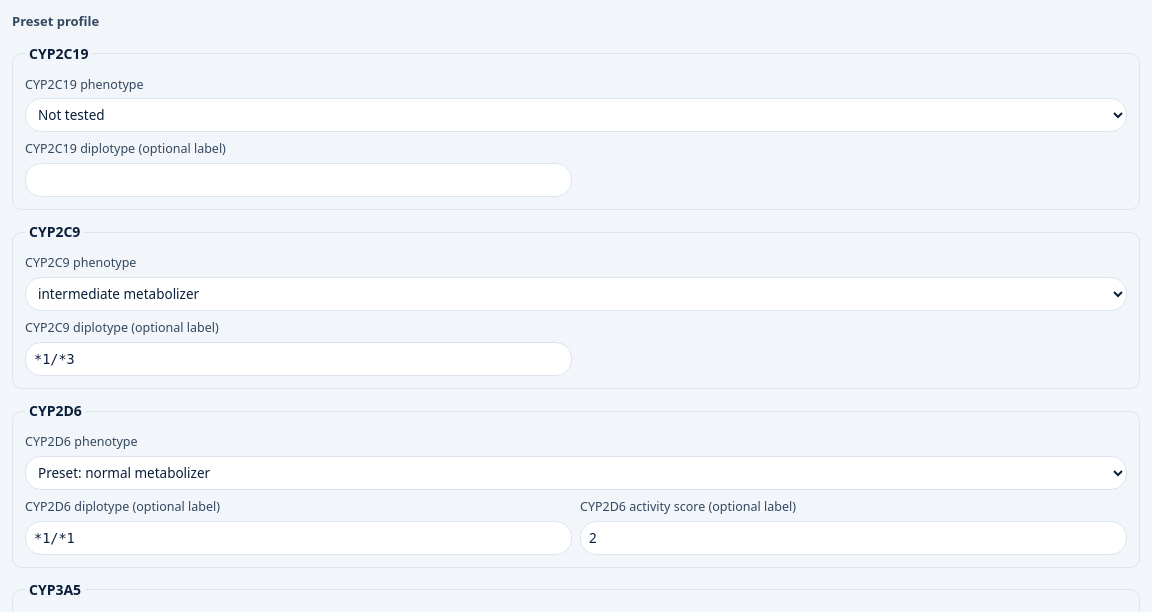
Test: ProfileEditor › reset restores the preset
Select "intermediate metabolizer" in the dropdown labelled "CYP2D6 phenotype" at (576, 473), box [25,456,1127,490]
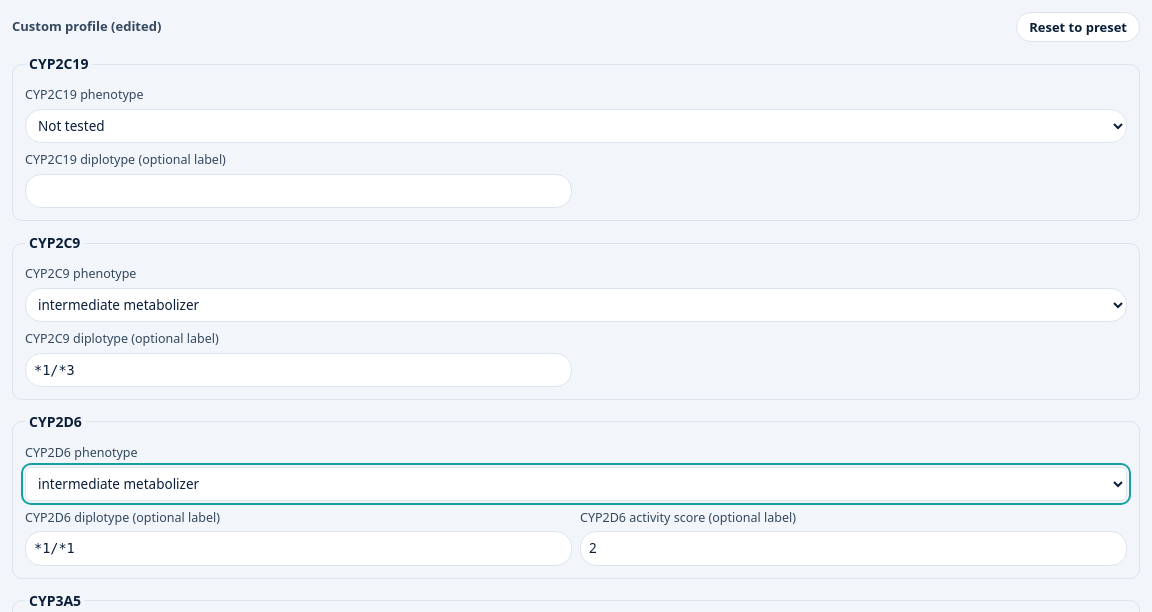
Click the button "Reset to preset" at (1078, 27), box [1016,12,1140,42]
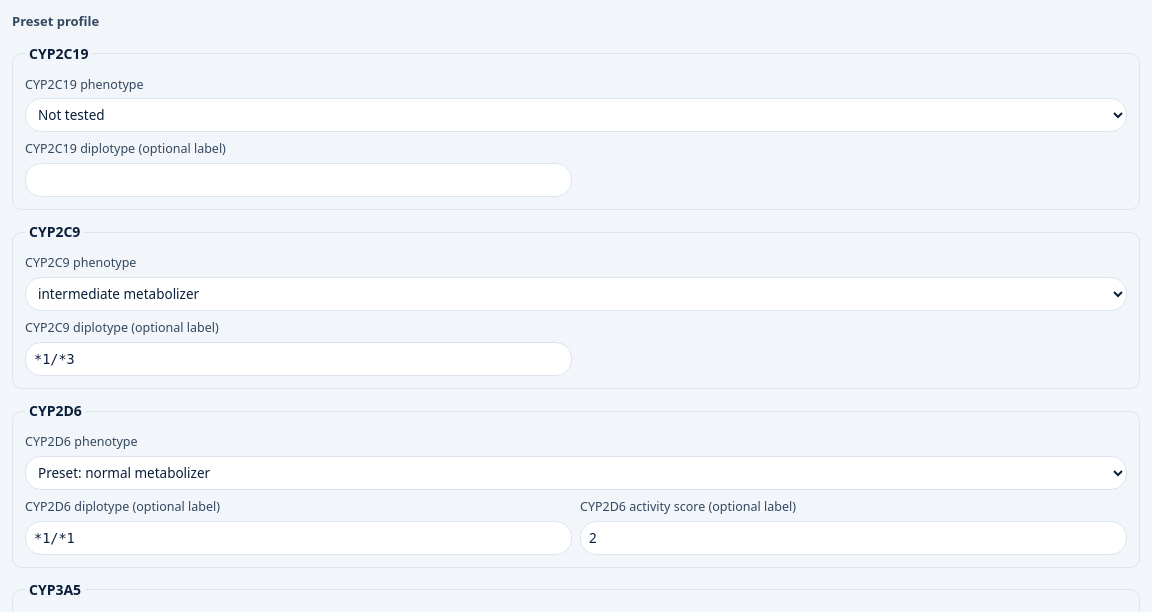
Expected: the text "Custom profile (edited)" is gone
